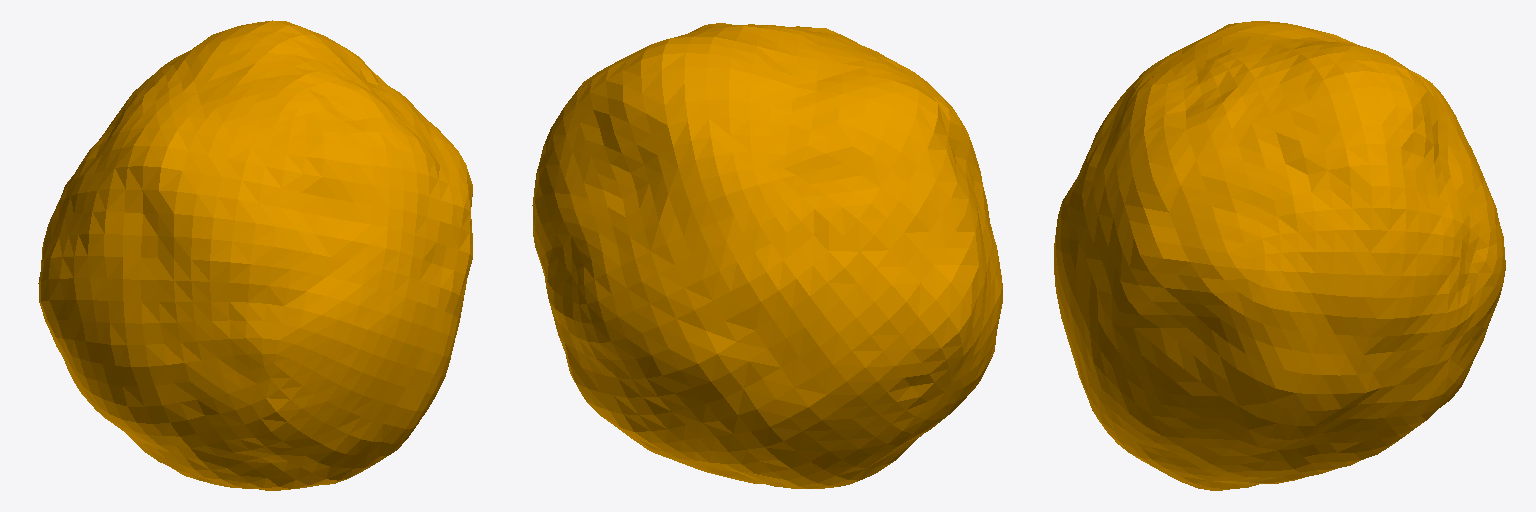
URDF robot description (rock):
<?xml version="1.0" ?>
<robot name="rock">
  <link name="rock">
    <inertial>
      <mass value="0.271"/>
      <origin rpy="0 0 0" xyz="0 0 0"/>
      <inertia ixx="0.000271" ixy="0" ixz="0" iyy="0.000271" iyz="0" izz="0.000271"/>
    </inertial>
    <collision name="rock_collision">
      <origin rpy="0 0 0" xyz="0 0 0"/>
      <geometry>
        <mesh filename="package://rocks/visual/131.dae" scale="1 1 1"/>
      </geometry>
    </collision>
    <visual name="rock_visual">
      <origin rpy="0 0 0" xyz="0 0 0"/>
      <geometry>
        <mesh filename="package://rocks/visual/131.dae" scale="1 1 1"/>
      </geometry>
    </visual>
  </link>
</robot>

--- What the picture shows (computed from the rendered views, not written in the file) ---
The picture shows the robot from 3 angles, left to right: view 1: azimuth 30°, elevation 25°; view 2: azimuth 150°, elevation 25°; view 3: azimuth 270°, elevation 25°; orthographic projection.
Robot: rock — 1 links, 0 joints (none); root link rock; default pose: every joint at zero.
Links seen in each view (by area): view 1: rock; view 2: rock; view 3: rock.
Boxes of the visible links, bbox=[...] form: rock: bbox=[38, 20, 472, 490]; rock: bbox=[532, 23, 1002, 488]; rock: bbox=[1054, 21, 1505, 490].
Size in the robot's own frame: 0.0737 by 0.0692 by 0.0723 metres.
1 mesh visuals loaded from 1 distinct referenced files (1 Collada DAE).